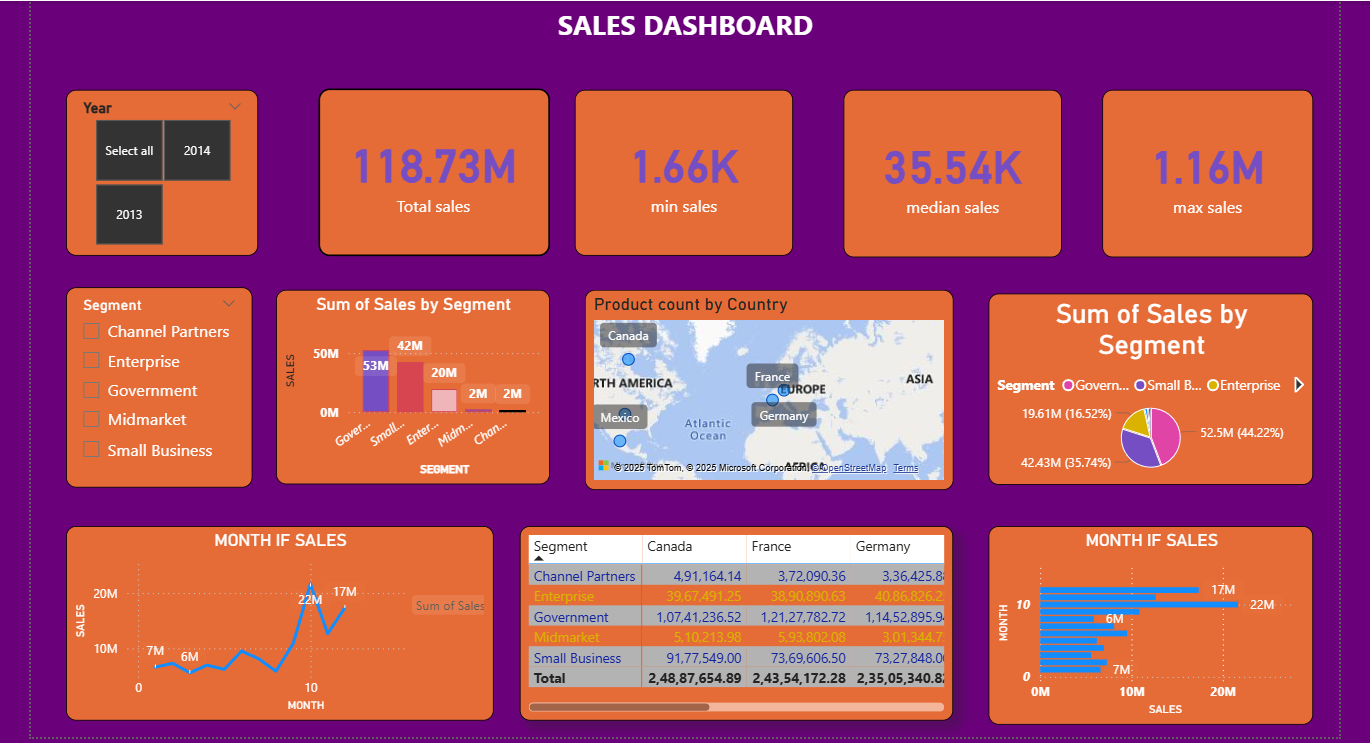

The page's visual inventory and layout, read from the dashboard file:
{"tool":"powerbi","page":{"name":"Page 11","canvas":[1280,720],"ordinal":10},"visuals":[{"type":"card","fields":{"Values":["financials.Total sales"]},"box":[281.3,85.6,226.2,163.9],"z":0},{"type":"card","fields":{"Values":["financials.min sales"]},"box":[531.9,86.8,214,162.6],"z":1000},{"type":"card","fields":{"Values":["financials.median sales"]},"box":[794.8,86.8,214,163.9],"z":2000},{"type":"card","fields":{"Values":["financials.max sales"]},"box":[1048,86.8,206.7,163.9],"z":3000},{"type":"map","fields":{"Category":["financials.Country"],"Size":["financials.Product count"]},"box":[541.7,282.5,360.7,195.7],"z":4000},{"type":"columnChart","fields":{"Category":["financials.Segment"],"Y":["Sum(financials.Sales)"]},"box":[239.7,282.5,267.8,190.8],"z":5000},{"type":"pieChart","fields":{"Category":["financials.Segment"],"Y":["Sum(financials.Sales)"]},"box":[936.7,286.1,317.9,187.1],"z":6000},{"type":"lineChart","title":"MONTH IF SALES","fields":{"Category":["Date table.month"],"Y":["Sum(financials.Sales)"]},"box":[34.2,513.6,418.2,190.8],"z":7000},{"type":"pivotTable","fields":{"Rows":["financials.Segment"],"Columns":["financials.Country"],"Values":["Sum(financials.Sales)"]},"box":[478.1,513.6,424.3,190.8],"z":8000},{"type":"barChart","title":"MONTH IF SALES","fields":{"Category":["Date table.month"],"Y":["Sum(financials.Sales)"]},"box":[936.7,513.6,317.9,194.4],"z":9000},{"type":"textbox","box":[0,0,1280.3,86.8],"z":10000},{"type":"slicer","fields":{"Values":["financials.Segment"]},"box":[34.2,280,182.2,195.7],"z":11000},{"type":"slicer","fields":{"Values":["financials.Year"]},"box":[34.2,86.8,188.3,162.6],"z":12000}]}

Visuals, with their boxes in screenshot pixels (x1, y1, x2, y2):
card - financials.Total sales: Rect(318, 87, 548, 254)
card - financials.min sales: Rect(573, 88, 790, 253)
card - financials.median sales: Rect(840, 88, 1057, 255)
card - financials.max sales: Rect(1097, 88, 1307, 255)
map - financials.Country x financials.Product count: Rect(583, 287, 949, 486)
columnChart - financials.Segment x Sum(financials.Sales): Rect(276, 287, 548, 481)
pieChart - financials.Segment x Sum(financials.Sales): Rect(984, 291, 1307, 481)
"MONTH IF SALES" lineChart: Rect(67, 522, 492, 716)
pivotTable - financials.Segment x financials.Country: Rect(518, 522, 949, 716)
"MONTH IF SALES" barChart: Rect(984, 522, 1307, 720)
textbox: Rect(32, 0, 1333, 88)
slicer - financials.Segment: Rect(67, 285, 252, 484)
slicer - financials.Year: Rect(67, 88, 258, 253)
